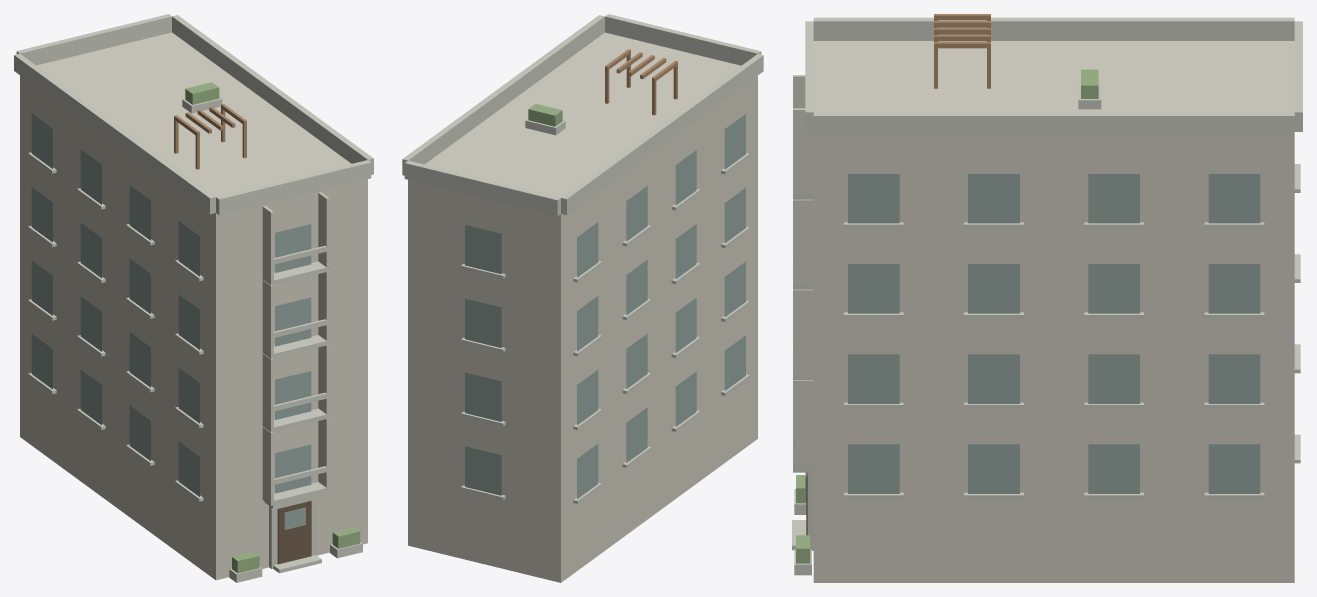
File: residential_1x2_b.glb
The picture shows the model from 3 angles, left to right: view 1: azimuth 30°, elevation 25°; view 2: azimuth 150°, elevation 25°; view 3: azimuth 270°, elevation 25°; orthographic projection. The views are drawn at different scales.
Parts seen in each view (by area): view 1: residential_1x2_b_0; view 2: residential_1x2_b_0; view 3: residential_1x2_b_0.
Part boxes in pixels (bbox=[...]): residential_1x2_b_0: bbox=[14, 14, 373, 582]; residential_1x2_b_0: bbox=[402, 14, 763, 582]; residential_1x2_b_0: bbox=[792, 14, 1302, 582].
Size of the model in its own units: 7 by 16.5 by 15.4.
